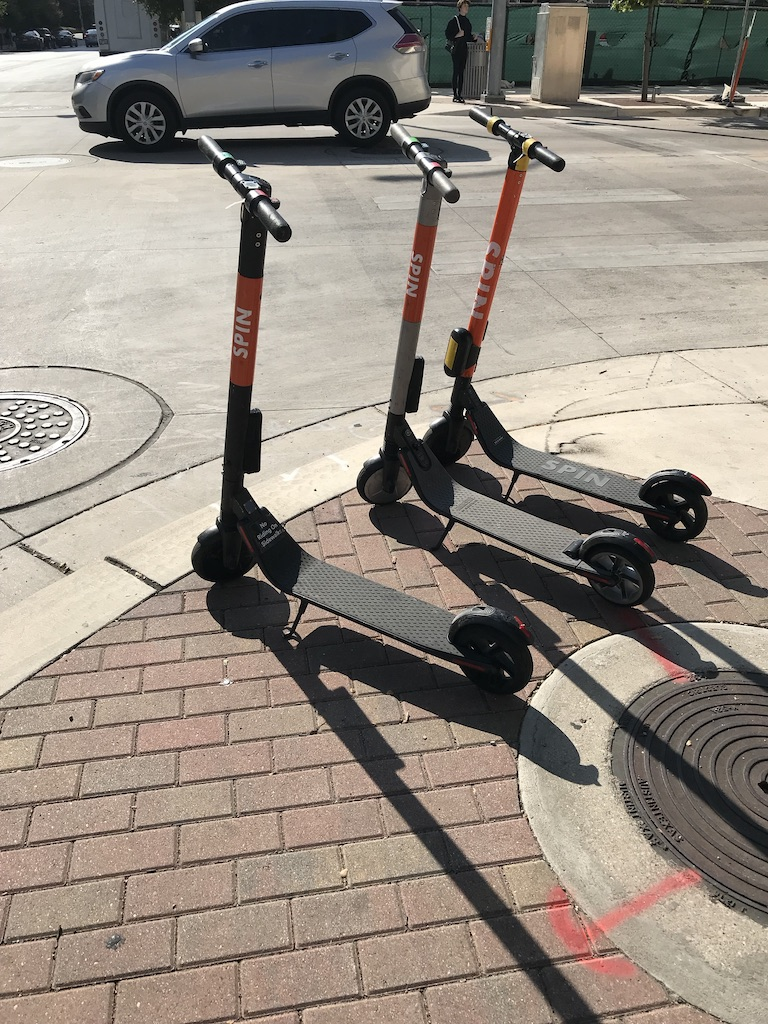scooter: (190, 140, 532, 693), (362, 127, 663, 615), (425, 107, 705, 539)
